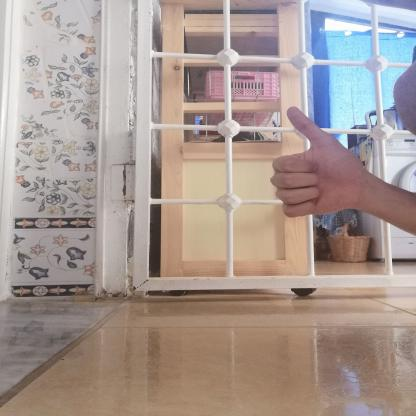ALIF: (253, 96, 376, 226)
